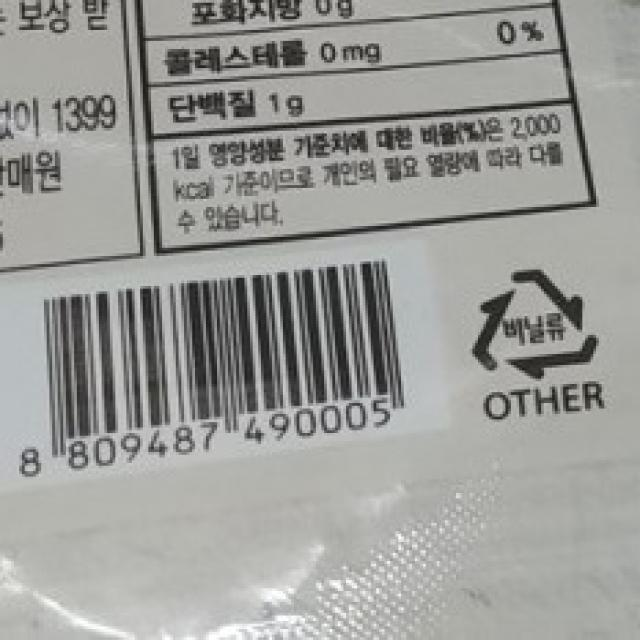Vinyl: (469, 263, 600, 384)
